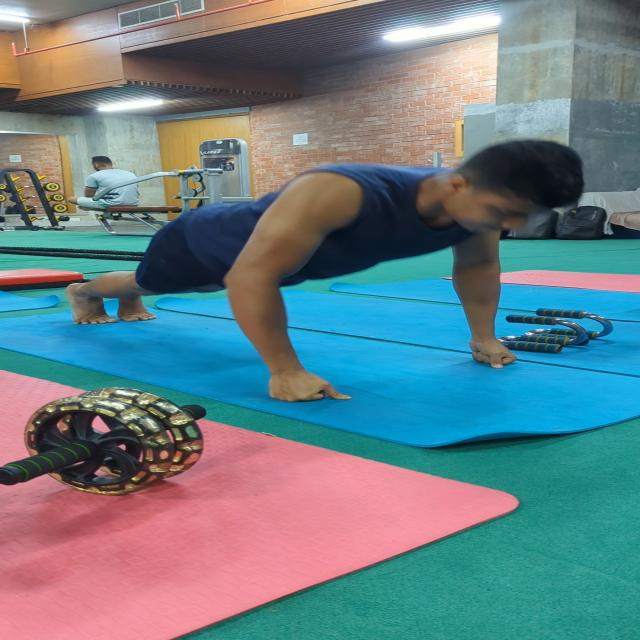Normal_PushUps: (56, 135, 590, 413)
